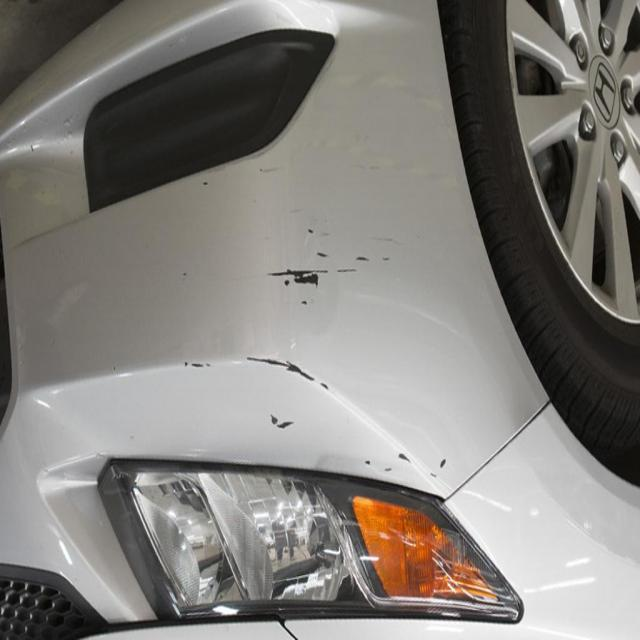scratch: (164, 220, 473, 500)
